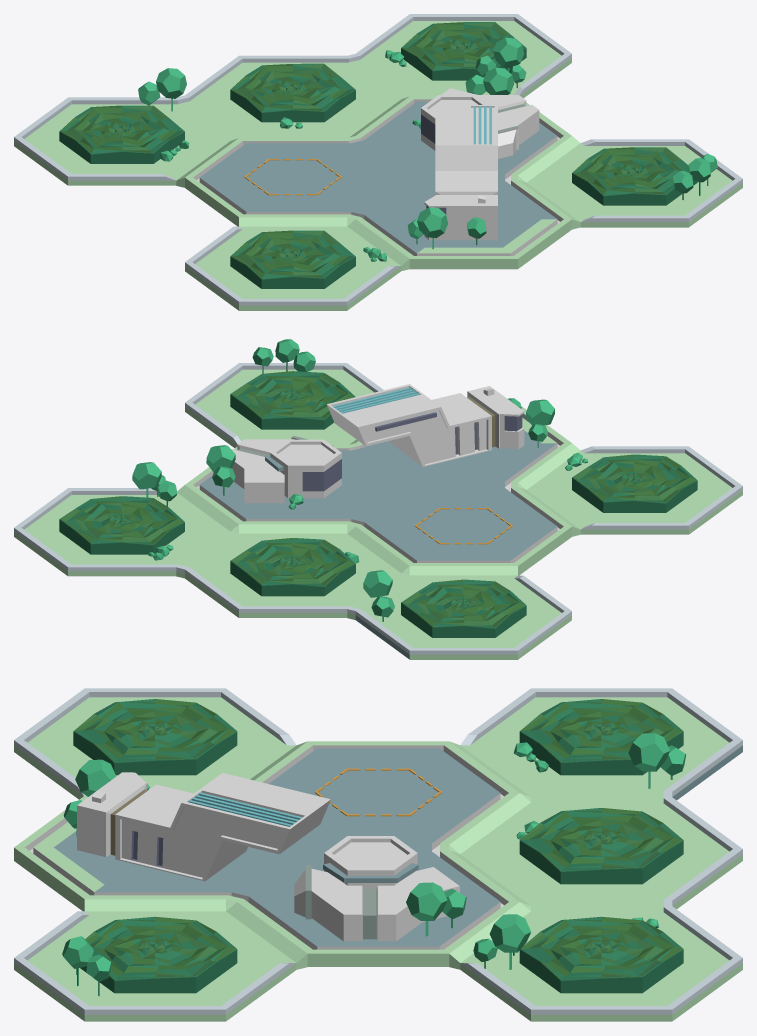
The model's file is Role_Peasant_LV1.fbx.
The picture shows the model from 3 angles, top to bottom: view 1: azimuth 30°, elevation 25°; view 2: azimuth 150°, elevation 25°; view 3: azimuth 270°, elevation 25°; orthographic projection. The views are drawn at different scales.
Visible parts, largest first — view 1: yin.001; view 2: yin.001; view 3: yin.001.
Boxes of the visible parts, left/top/right/bottom form: yin.001: left=14, top=14, right=742, bottom=310; yin.001: left=14, top=339, right=742, bottom=659; yin.001: left=14, top=688, right=742, bottom=1021.
Size of the model in its own units: 511 by 85.43 by 490.
